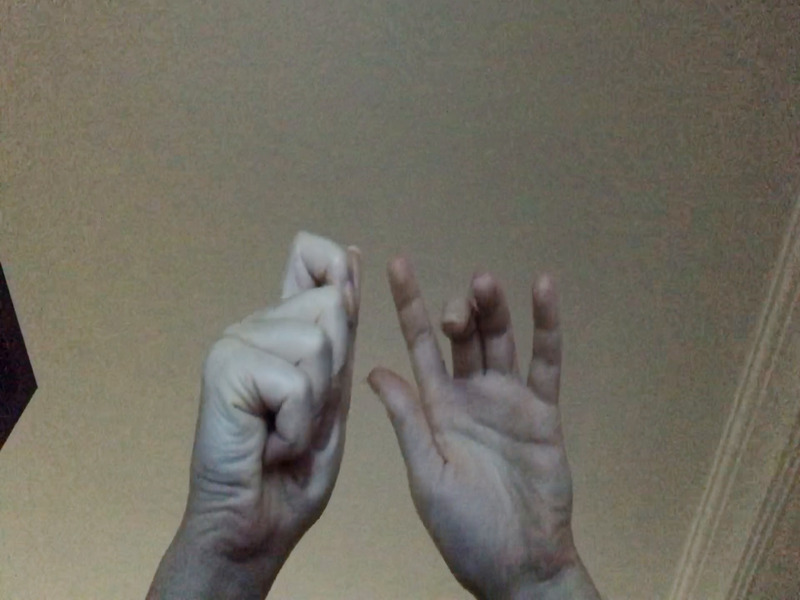hand: (368, 240, 575, 558), (177, 231, 365, 569)
